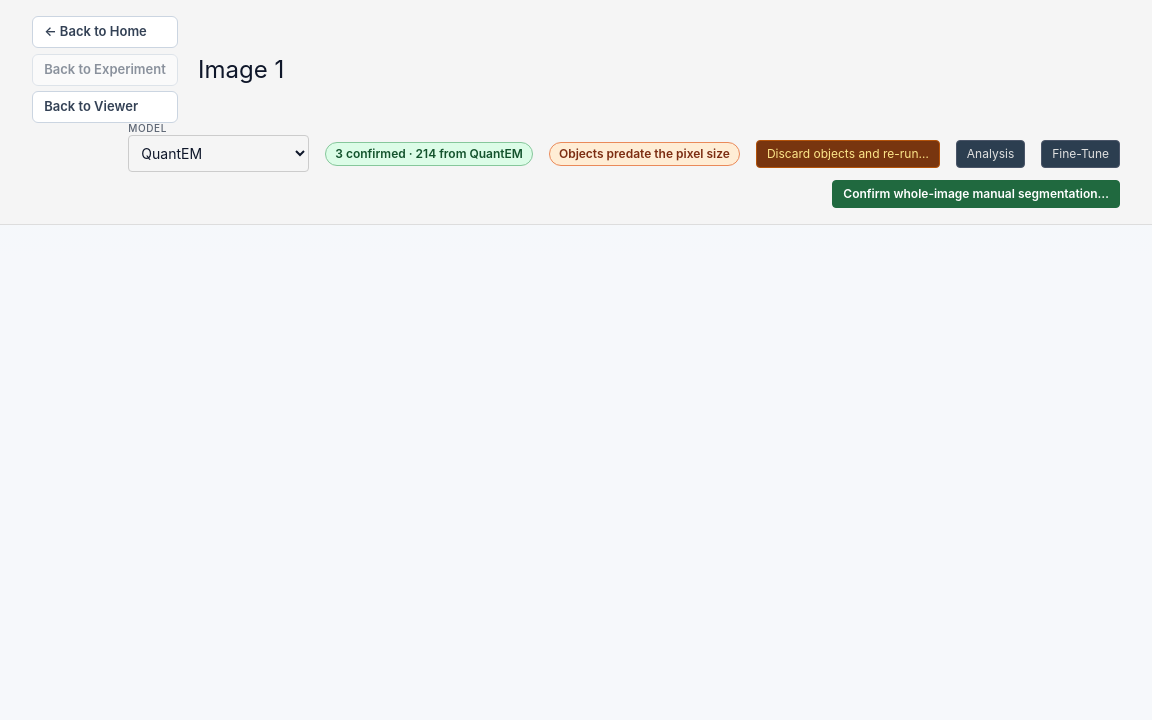
SegmentationHeader › discard-and-re-run recovery for calibrated-after-the-fact › keeps the dialog open and prints the refusal verbatim when the server refuses
The width and height of the screenshot is (1152, 720).
Click the button with test id "clear-rerun-button".
click(848, 154)  # box x1=756 y1=140 x2=940 y2=168
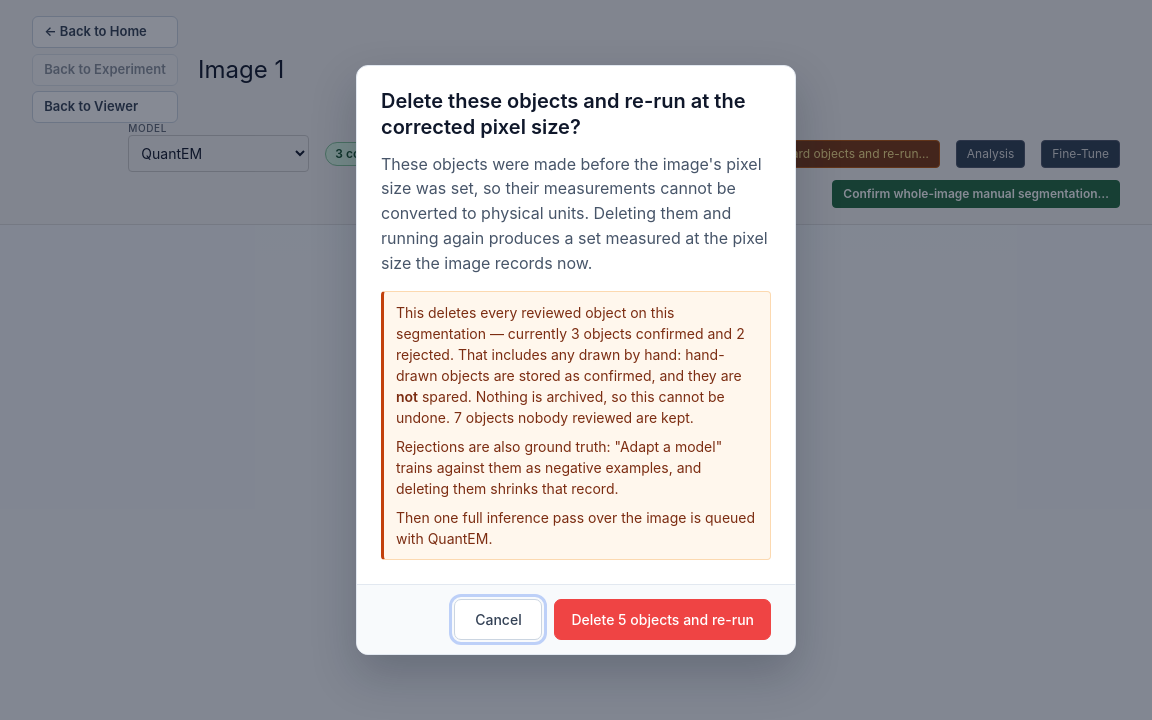
Click the button "Delete 5 objects and re-run".
click(663, 620)  # box x1=554 y1=600 x2=771 y2=640
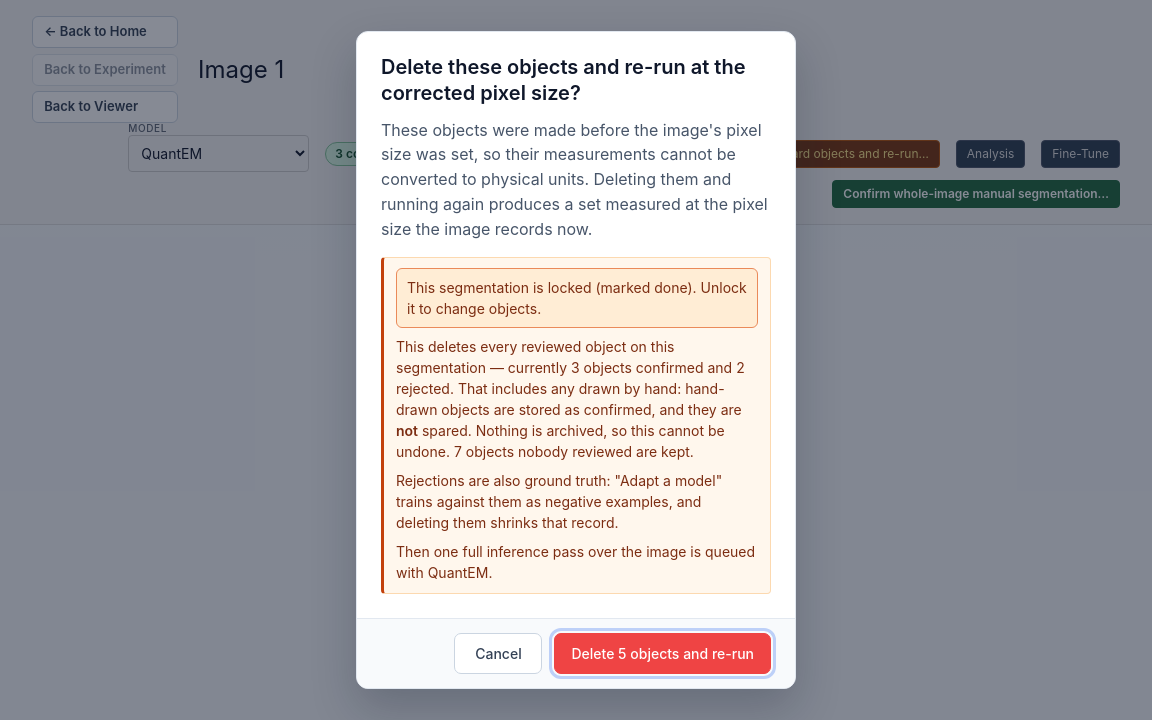
Expected: the dialog is shown, x1=356 y1=31 x2=796 y2=689
Expected: the button "Delete 5 objects and re-run" is shown, x1=554 y1=634 x2=771 y2=674
Expected: the message reads "This segmentation is locked (marked done). Unlock it to change objects.", x1=407 y1=280 x2=747 y2=318
